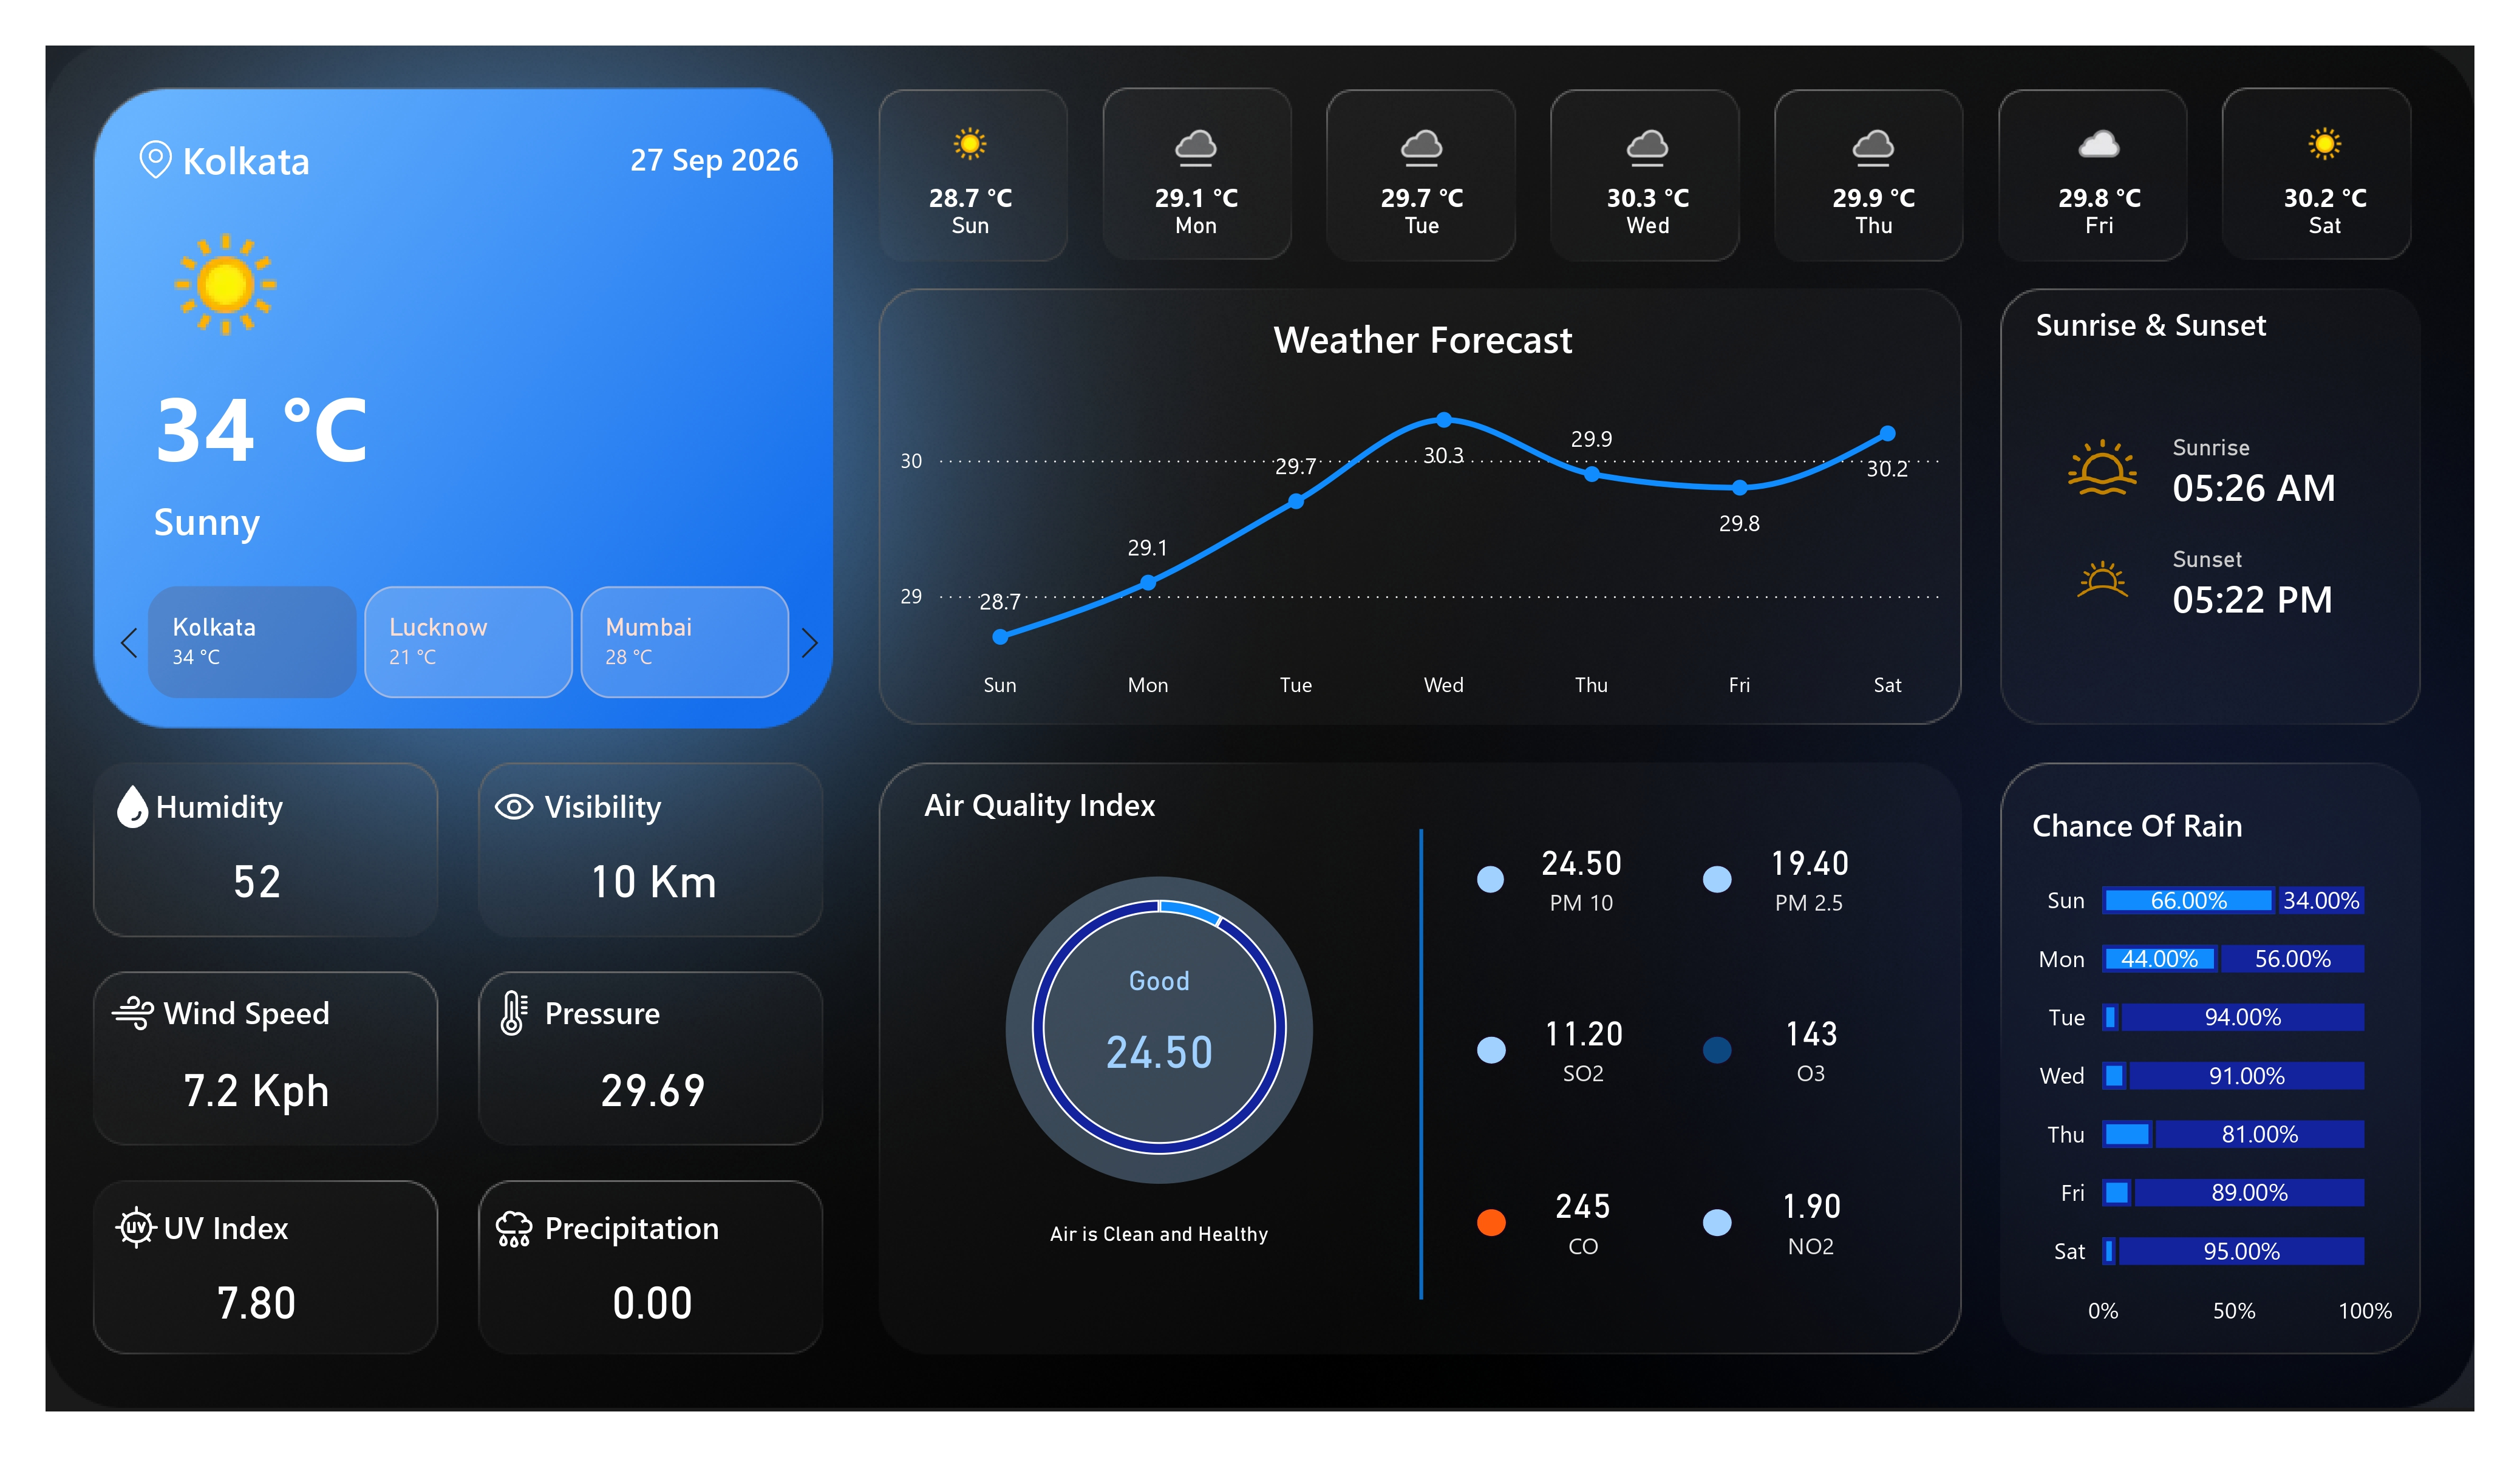

The dashboard page shown, as its layout file describes it:
{"tool":"powerbi","page":{"name":"Page 1","canvas":[1280,720],"ordinal":0},"visuals":[{"type":"shape","box":[1120.8,211.2,94,40],"z":0,"group":"g1"},{"type":"advancedSlicerVisual","fields":{"Values":["Locations.location.name"]},"box":[34,285,379,59],"z":0},{"type":"cardVisual","fields":{"Data":["Sum(Current.current.air_quality.pm10)"]},"box":[524.3,485.6,126.1,66.4],"z":0,"group":"g3"},{"type":"shape","box":[57,160,147,80],"z":1000},{"type":"shape","box":[1120.9,270.5,93.8,40],"z":1000,"group":"g1"},{"type":"donutChart","fields":{"Y":["Sum(Current.current.air_quality.pm10)","Measure_Table.LeftValue_PM10"]},"box":[487.3,419.2,200,199.2],"z":1000,"group":"g3"},{"type":"shape","box":[1120.9,200,51.4,22.4],"z":2000,"group":"g1"},{"type":"shape","box":[57,230,340,38],"z":2000},{"type":"shape","box":[72.4,40.3,217.3,37.6],"z":3000},{"type":"shape","box":[1120.9,259,51.4,22.4],"z":3000,"group":"g1"},{"type":"shape","box":[289.7,40.9,107,37],"z":4000},{"type":"image","box":[48,46.8,20.2,25.2],"z":5000},{"type":"cardVisual","fields":{"Data":["Min(Current.current.condition.icon)"]},"box":[34,78,122,96],"z":6000},{"type":"image","box":[235,386.5,24,27],"z":7000},{"type":"shape","box":[263,385.5,84,29],"z":8000},{"type":"image","box":[34,386.5,24,27],"z":9000},{"type":"image","box":[34,495.5,24,27],"z":10000},{"type":"image","box":[235.4,609.6,23.5,26.9],"z":11000},{"type":"image","box":[35.8,609.2,24.2,27.3],"z":12000},{"type":"image","box":[235,495.5,24,27],"z":13000},{"type":"shape","box":[58,385.5,84,29],"z":14000},{"type":"shape","box":[61.5,494.5,98,29],"z":15000},{"type":"shape","box":[263.1,494.6,98.1,28.8],"z":16000},{"type":"shape","box":[61.5,608.5,98.1,28.8],"z":17000},{"type":"shape","box":[263.1,608.5,98.1,28.8],"z":18000},{"type":"cardVisual","fields":{"Data":["Sum(Current.current.humidity)"]},"box":[49,414,124,50],"z":19000},{"type":"cardVisual","fields":{"Data":["Measure_Table.Wind_Speed"]},"box":[49,524,124,50],"z":20000},{"type":"cardVisual","fields":{"Data":["Measure_Table.Visibility"]},"box":[258,414,124,50],"z":21000},{"type":"cardVisual","fields":{"Data":["Sum(Current.current.precip_in)"]},"box":[258,636,124,50],"z":22000},{"type":"cardVisual","fields":{"Data":["Sum(Current.current.pressure_in)"]},"box":[258,524,124,50],"z":23000},{"type":"cardVisual","fields":{"Data":["Sum(Current.current.uv)"]},"box":[49,636,124,50],"z":24000},{"type":"advancedSlicerVisual","fields":{"Values":["Forcast_Day.Day_Name"]},"box":[435.4,34.6,818.5,75.4],"z":25000},{"type":"lineChart","title":"Weather Forecast","fields":{"Category":["Forcast_Day.Day_Name"],"Y":["Sum(Forcast_Day.forecast.forecastday.day.avgtemp_c)"]},"box":[434,126,584,240],"z":26000},{"type":"shape","box":[1049,132,158,29],"z":27000},{"type":"image","box":[1065,204.2,36.7,35.8],"z":28000},{"type":"group","id":"g1","title":"Group 1","box":[1120.8,200,93.3,110],"z":29000},{"type":"image","box":[1065,263.3,36.7,35.8],"z":30000},{"type":"hundredPercentStackedBarChart","title":"Chance Of Rain","fields":{"Y":["Sum(Forcast_Day.forecast.forecastday.day.daily_chance_of_rain)","Measure_Table.Left_Value_Rain"],"Category":["Forcast_Day.Day_Name"]},"box":[1030.7,386.4,222.5,309.6],"z":31000},{"type":"shape","box":[463,385,158,29],"z":32000},{"type":"cardVisual","fields":{"Data":["Sum(Current.current.air_quality.pm10)"]},"box":[770.2,419.1,79,41],"z":33000},{"type":"cardVisual","fields":{"Data":["Sum(Current.current.air_quality.so2)"]},"box":[770.9,509.3,79,41],"z":34000},{"type":"cardVisual","fields":{"Data":["Sum(Current.current.air_quality.co)"]},"box":[770.9,599.7,79,41],"z":35000},{"type":"cardVisual","fields":{"Data":["Sum(Current.current.air_quality.pm2_5)"]},"box":[890.1,419.1,79,41],"z":36000},{"type":"cardVisual","fields":{"Data":["Sum(Current.current.air_quality.o3)"]},"box":[890.8,509.3,79,41],"z":37000},{"type":"cardVisual","fields":{"Data":["Sum(Current.current.air_quality.no2)"]},"box":[890.8,599.7,79,41],"z":38000},{"type":"shape","box":[753.2,431,17.1,17.1],"z":39000},{"type":"shape","box":[753.2,521.3,17.6,17.1],"z":40000},{"type":"shape","box":[753.2,611.6,17.6,17.1],"z":41000},{"type":"shape","box":[872.4,611.6,17.6,17.1],"z":42000},{"type":"shape","box":[872.4,521.3,17.6,17.1],"z":43000},{"type":"shape","box":[872.4,431.1,17.6,17.1],"z":44000},{"type":"shape","box":[711.1,413.3,27.8,247.8],"z":45000},{"type":"group","id":"g2","title":"Group 3","box":[487.3,419.2,200.1,200.1],"z":46000},{"type":"shape","box":[463.2,608.1,247.5,36.2],"z":47000},{"type":"shape","box":[506,438.5,162.6,161.4],"z":50501,"group":"g2"},{"type":"group","id":"g3","title":"Group 2","box":[487.3,419.2,200,200],"z":51002,"group":"g2"}]}

Visuals, with their boxes on the page's 1280x720 design canvas (x1, y1, x2, y2). These are canvas units, not pixel positions in the 2520x1457 screenshot, which may show the page scaled, cropped or inside an application window:
shape: [left=1121, top=211, right=1215, bottom=251]
advancedSlicerVisual - Locations.location.name: [left=34, top=285, right=413, bottom=344]
cardVisual - Sum(Current.current.air_quality.pm10): [left=524, top=486, right=650, bottom=552]
shape: [left=57, top=160, right=204, bottom=240]
shape: [left=1121, top=270, right=1215, bottom=310]
donutChart - Sum(Current.current.air_quality.pm10) x Measure_Table.LeftValue_PM10: [left=487, top=419, right=687, bottom=618]
shape: [left=1121, top=200, right=1172, bottom=222]
shape: [left=57, top=230, right=397, bottom=268]
shape: [left=72, top=40, right=290, bottom=78]
shape: [left=1121, top=259, right=1172, bottom=281]
shape: [left=290, top=41, right=397, bottom=78]
image: [left=48, top=47, right=68, bottom=72]
cardVisual - Min(Current.current.condition.icon): [left=34, top=78, right=156, bottom=174]
image: [left=235, top=386, right=259, bottom=414]
shape: [left=263, top=386, right=347, bottom=414]
image: [left=34, top=386, right=58, bottom=414]
image: [left=34, top=496, right=58, bottom=522]
image: [left=235, top=610, right=259, bottom=636]
image: [left=36, top=609, right=60, bottom=636]
image: [left=235, top=496, right=259, bottom=522]
shape: [left=58, top=386, right=142, bottom=414]
shape: [left=62, top=494, right=160, bottom=524]
shape: [left=263, top=495, right=361, bottom=523]
shape: [left=62, top=608, right=160, bottom=637]
shape: [left=263, top=608, right=361, bottom=637]
cardVisual - Sum(Current.current.humidity): [left=49, top=414, right=173, bottom=464]
cardVisual - Measure_Table.Wind_Speed: [left=49, top=524, right=173, bottom=574]
cardVisual - Measure_Table.Visibility: [left=258, top=414, right=382, bottom=464]
cardVisual - Sum(Current.current.precip_in): [left=258, top=636, right=382, bottom=686]
cardVisual - Sum(Current.current.pressure_in): [left=258, top=524, right=382, bottom=574]
cardVisual - Sum(Current.current.uv): [left=49, top=636, right=173, bottom=686]
advancedSlicerVisual - Forcast_Day.Day_Name: [left=435, top=35, right=1254, bottom=110]
"Weather Forecast" lineChart: [left=434, top=126, right=1018, bottom=366]
shape: [left=1049, top=132, right=1207, bottom=161]
image: [left=1065, top=204, right=1102, bottom=240]
"Group 1" group: [left=1121, top=200, right=1214, bottom=310]
image: [left=1065, top=263, right=1102, bottom=299]
"Chance Of Rain" hundredPercentStackedBarChart: [left=1031, top=386, right=1253, bottom=696]
shape: [left=463, top=385, right=621, bottom=414]
cardVisual - Sum(Current.current.air_quality.pm10): [left=770, top=419, right=849, bottom=460]
cardVisual - Sum(Current.current.air_quality.so2): [left=771, top=509, right=850, bottom=550]
cardVisual - Sum(Current.current.air_quality.co): [left=771, top=600, right=850, bottom=641]
cardVisual - Sum(Current.current.air_quality.pm2_5): [left=890, top=419, right=969, bottom=460]
cardVisual - Sum(Current.current.air_quality.o3): [left=891, top=509, right=970, bottom=550]
cardVisual - Sum(Current.current.air_quality.no2): [left=891, top=600, right=970, bottom=641]
shape: [left=753, top=431, right=770, bottom=448]
shape: [left=753, top=521, right=771, bottom=538]
shape: [left=753, top=612, right=771, bottom=629]
shape: [left=872, top=612, right=890, bottom=629]
shape: [left=872, top=521, right=890, bottom=538]
shape: [left=872, top=431, right=890, bottom=448]
shape: [left=711, top=413, right=739, bottom=661]
"Group 3" group: [left=487, top=419, right=687, bottom=619]
shape: [left=463, top=608, right=711, bottom=644]
shape: [left=506, top=438, right=669, bottom=600]
"Group 2" group: [left=487, top=419, right=687, bottom=619]
